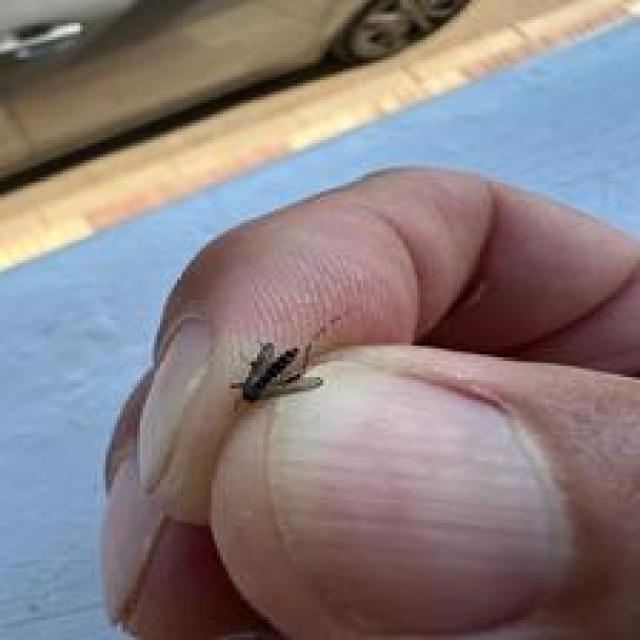Aedes albopictus: (230, 337, 324, 406)
